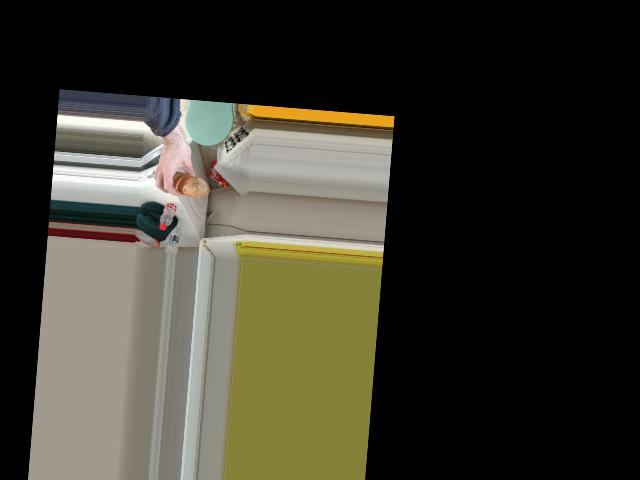sweet_potato: (167, 165, 201, 199)
